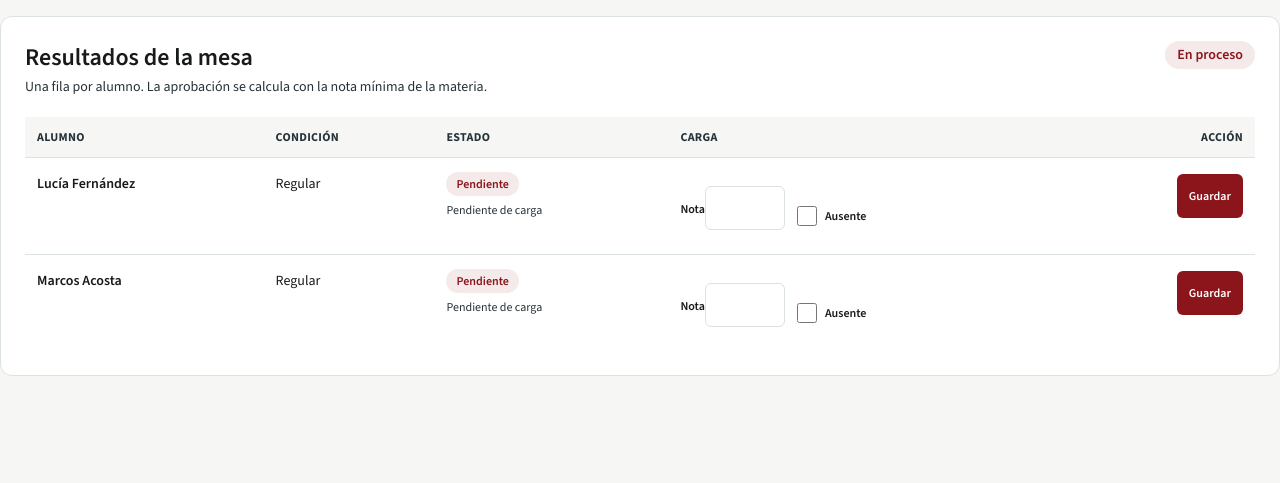
it: ExamResultPanel › saves one draft, preserves the other, and retries a failed refresh
Step 1. Type "8" into the number field named "Nota de Lucía Fernández" → coordinates (745, 208), box [705,186,785,230]
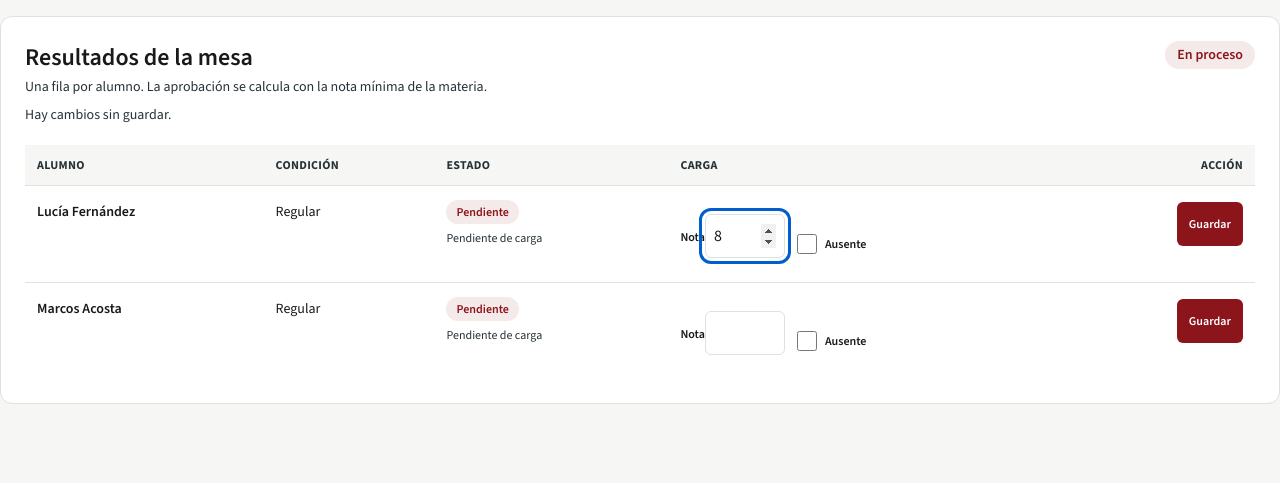
Step 2. Type "7" into the number field named "Nota de Marcos Acosta" → coordinates (745, 333), box [705,311,785,355]
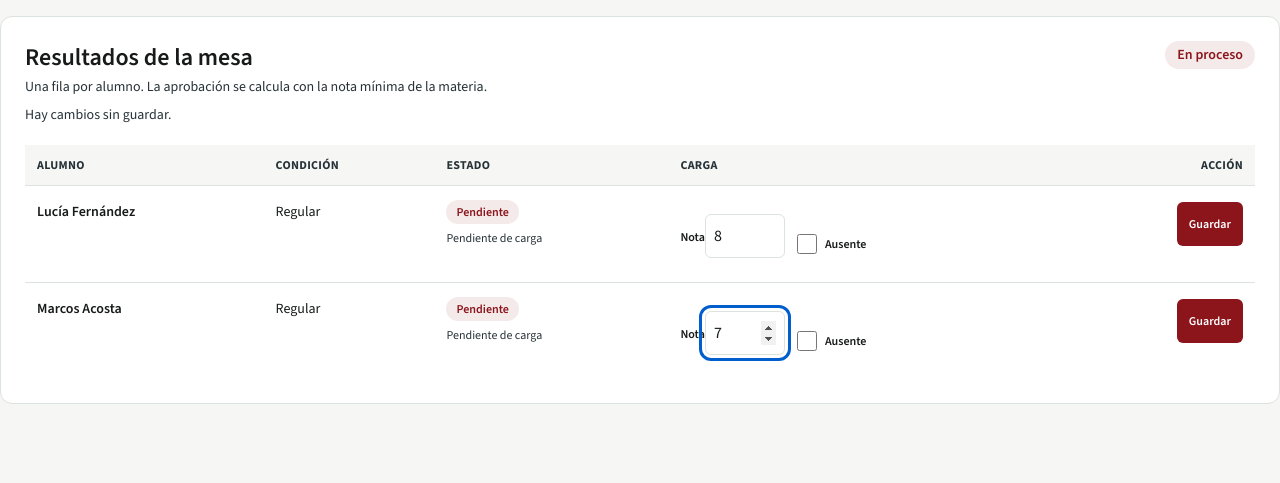
Step 3. Click the button with aria-label "Guardar resultado de Lucía Fernández" → coordinates (1210, 224), box [1177,202,1243,246]
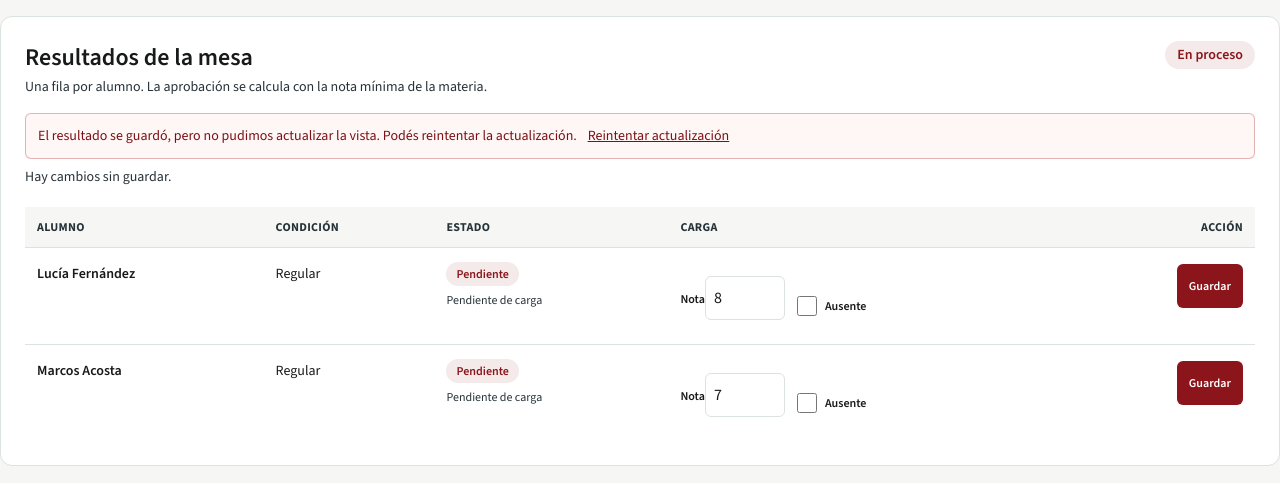
Check: the button "Reintentar actualización" is shown
Step 4. Click the button "Reintentar actualización" → coordinates (658, 136), box [588,126,729,146]
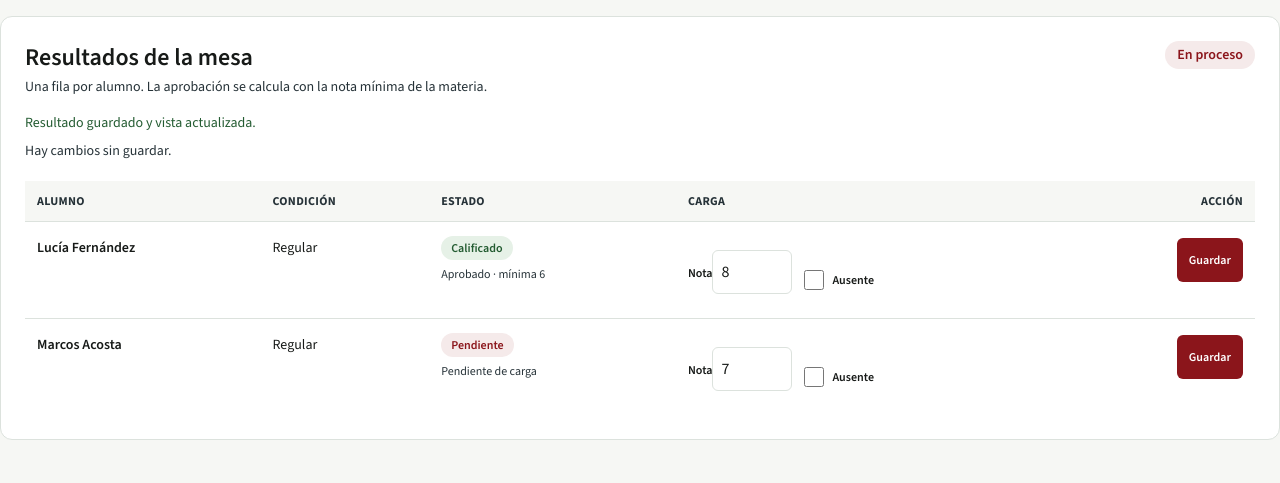
Check: the text "Hay cambios sin guardar." is shown, box [25,141,172,160]
Check: the text "Resultado guardado y vista actualizada." is shown, box [25,113,256,132]
